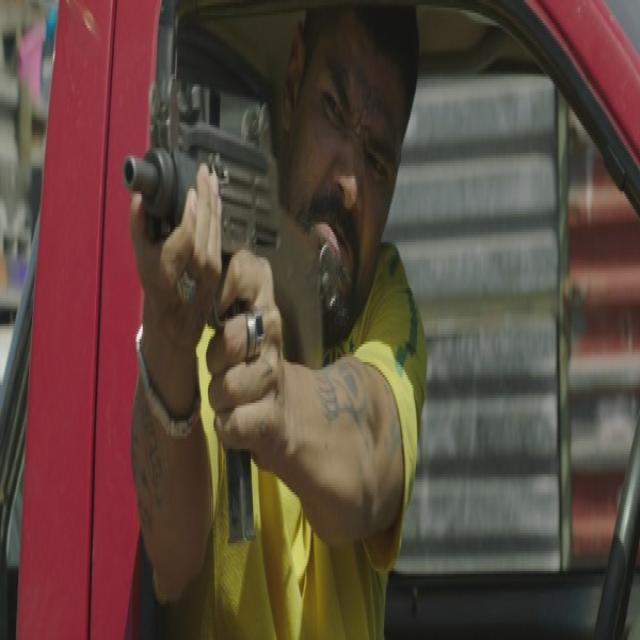rifle: (119, 63, 274, 551)
